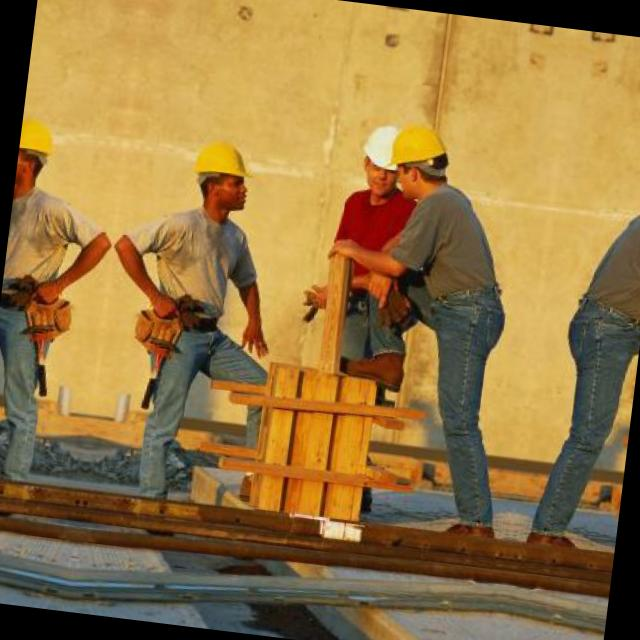helmet: (178, 128, 258, 225), (372, 114, 456, 206), (12, 108, 66, 204), (353, 119, 412, 202)
